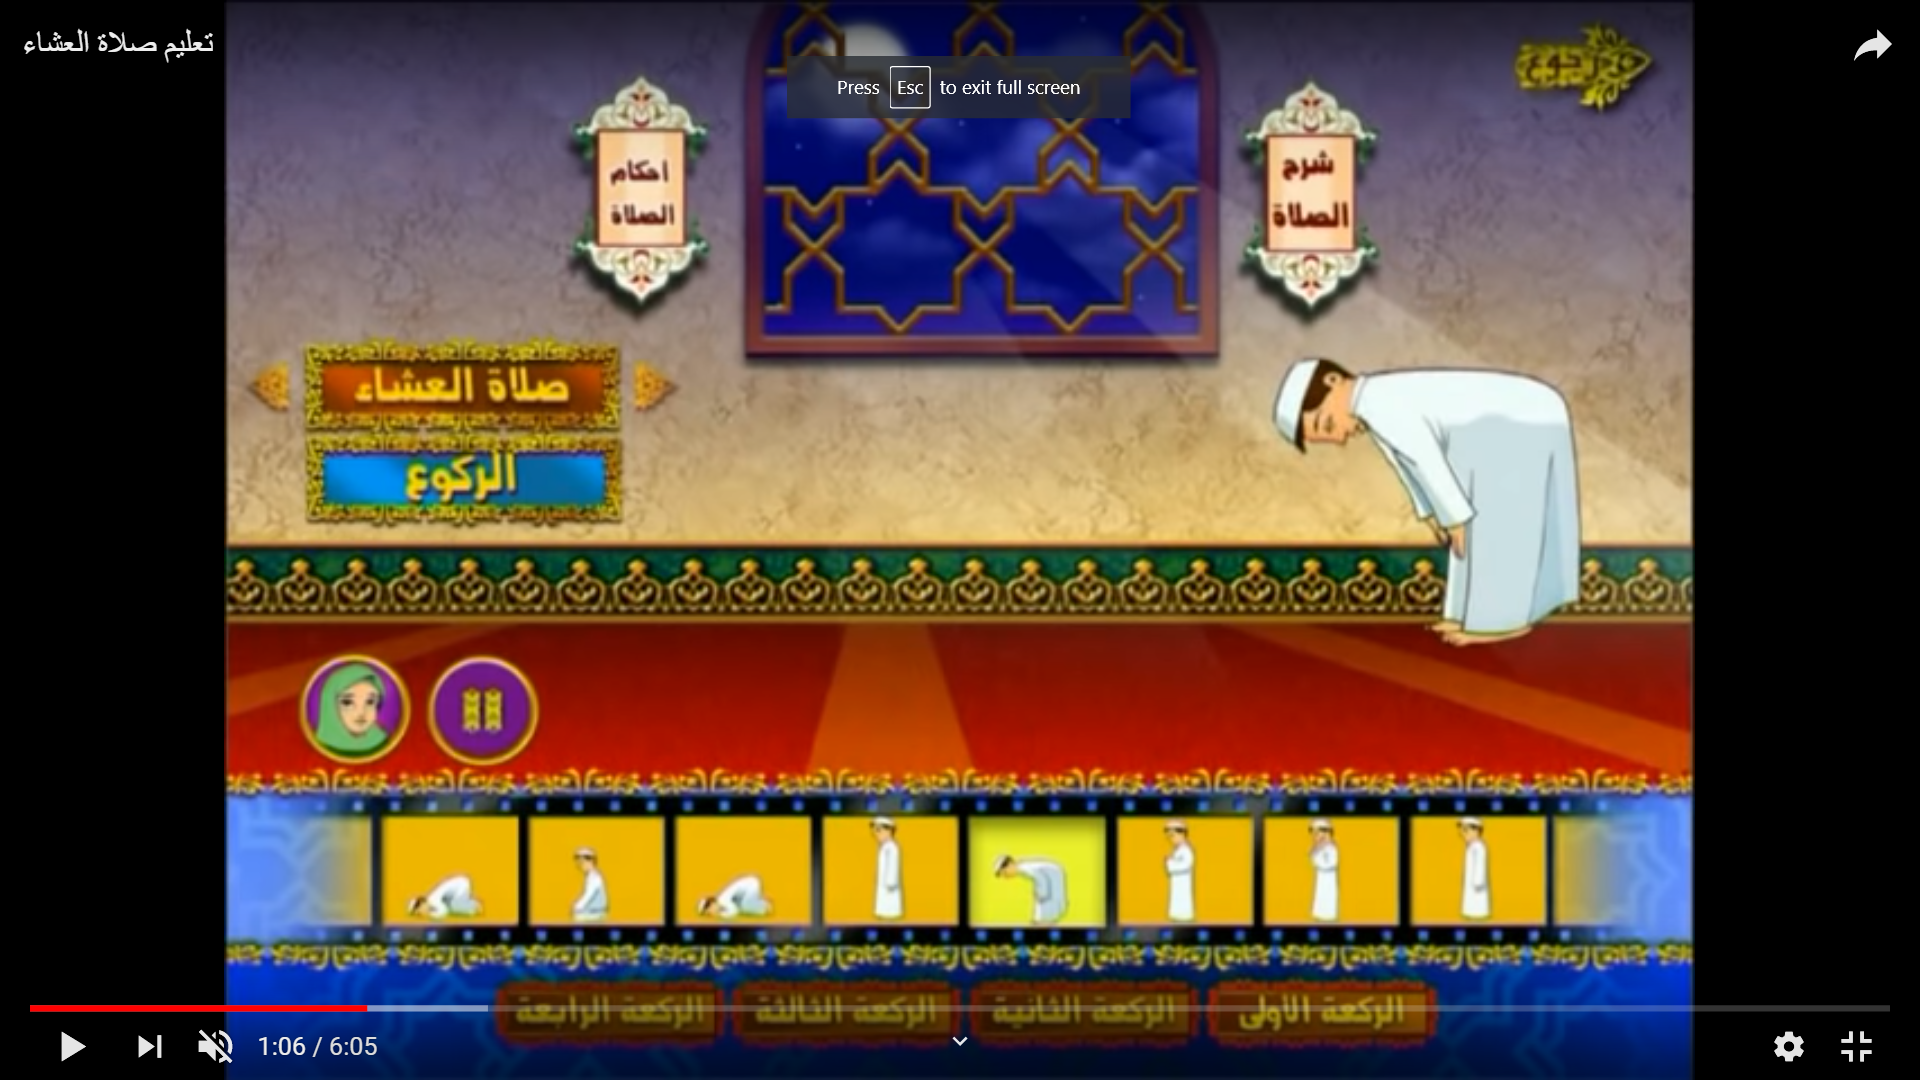ruku: (1127, 302, 1684, 721)
